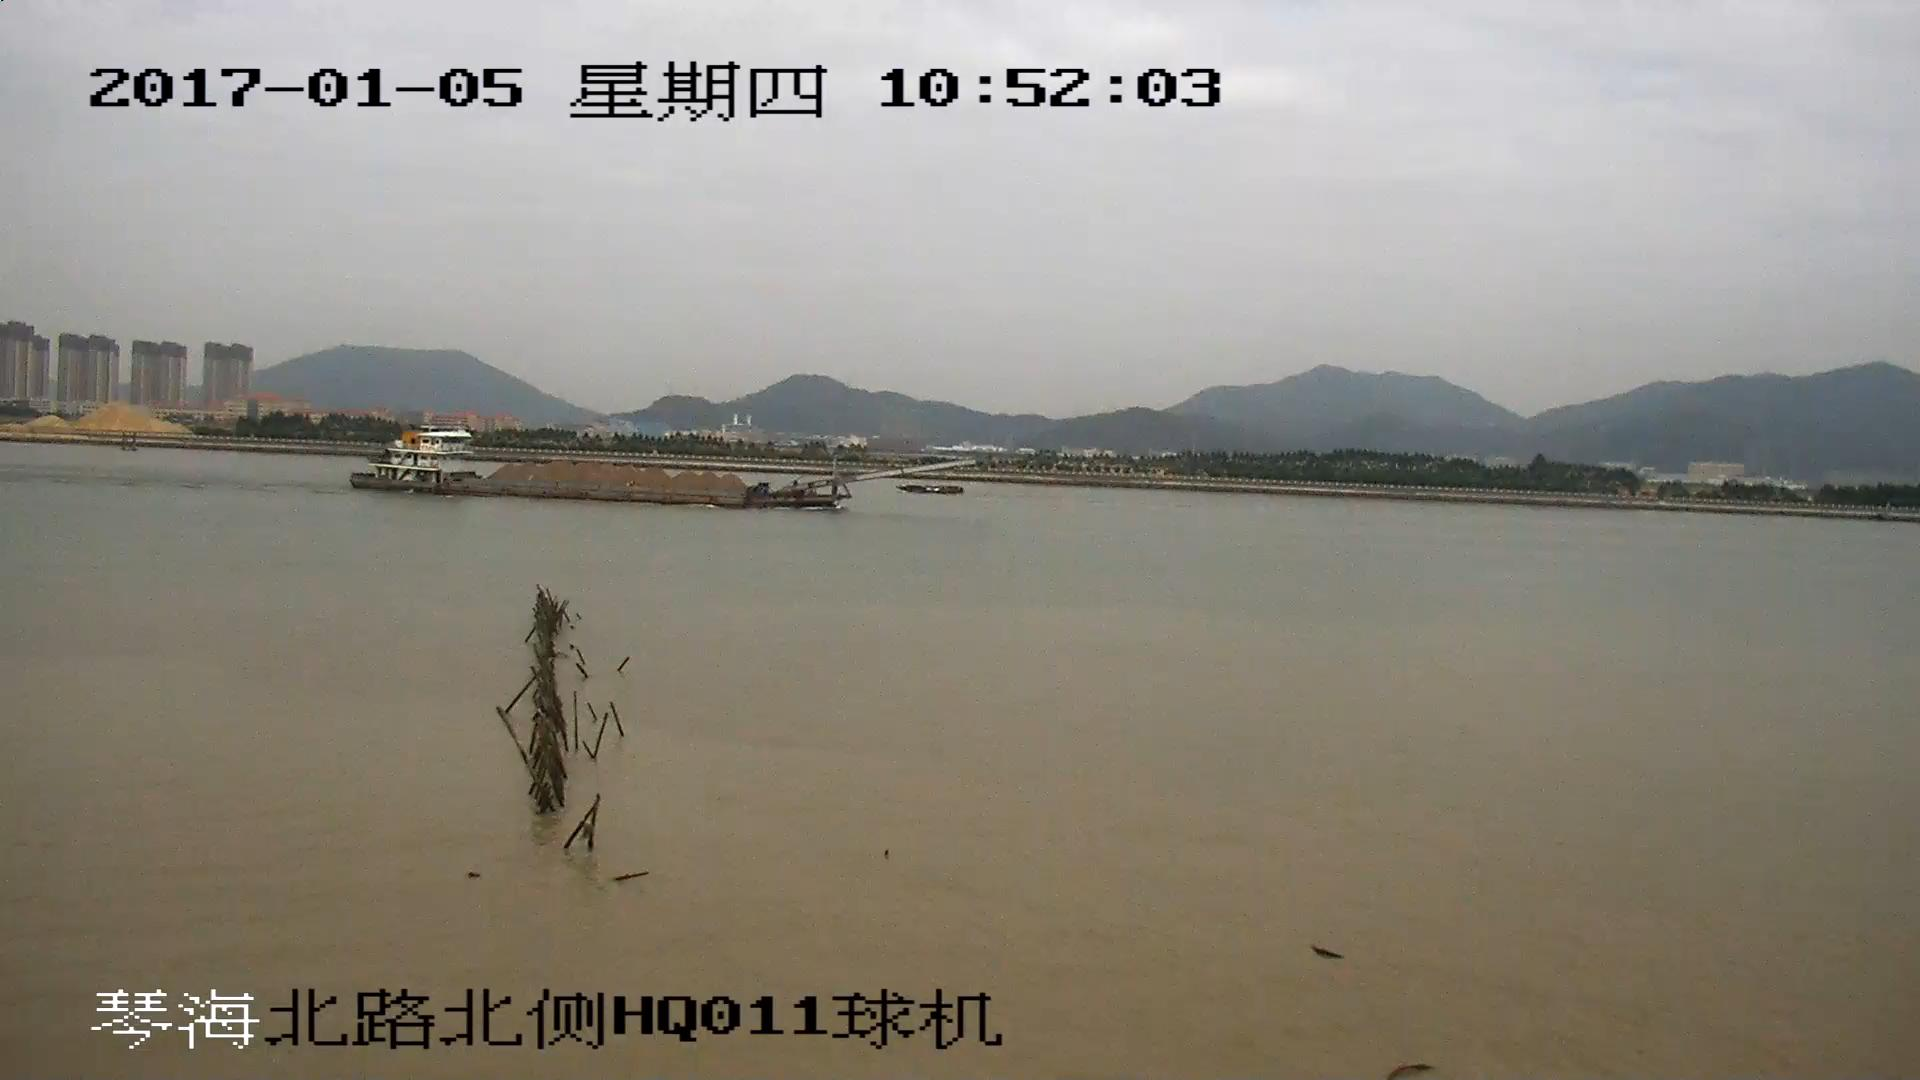ore carrier: (350, 422, 970, 506)
